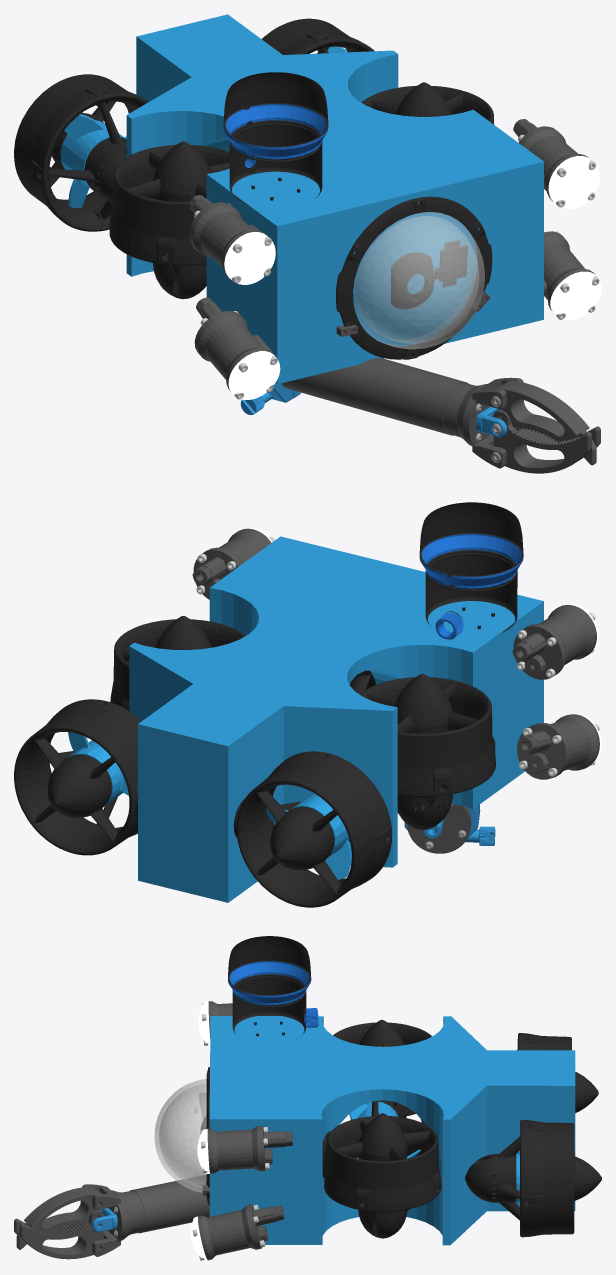
File: SIMPLEROV_5.glb
3 views of the same model, one above another, from view 1: azimuth 30°, elevation 25°; view 2: azimuth 150°, elevation 25°; view 3: azimuth 270°, elevation 25° (orthographic). The views are drawn at different scales.
Visible parts, largest first — view 1: Cube, NEWTON_GRIPPER, LUMEN-ASM-R3-PUBLIC.049, BROV2-HEAVY-ASM-BROV2-HEAVY-R1.065, motor3, motor6.standard, PING360.001, BROV2-HEAVY-ASM-BROV2-HEAVY-R1.066, motor6.standard.001, BROV2-HEAVY-ASM-BROV2-HEAVY-R1.001, motor4; view 2: Cube, motor3, motor4, motor6.standard, LUMEN-ASM-R3-PUBLIC.049, PING360.001, motor6.standard.001, NEWTON_GRIPPER; view 3: Cube, motor6.standard.001, motor4, NEWTON_GRIPPER, LUMEN-ASM-R3-PUBLIC.049, PING360.001, BROV2-HEAVY-ASM-BROV2-HEAVY-R1.065, motor6.standard, motor3, motor6.standard.002.
Boxes of the visible parts, left/top/right/bottom form: Cube: left=126, top=14, right=543, bottom=384; NEWTON_GRIPPER: left=240, top=358, right=600, bottom=473; LUMEN-ASM-R3-PUBLIC.049: left=189, top=119, right=601, bottom=399; BROV2-HEAVY-ASM-BROV2-HEAVY-R1.065: left=353, top=212, right=484, bottom=349; motor3: left=14, top=74, right=148, bottom=231; motor6.standard: left=109, top=141, right=229, bottom=299; PING360.001: left=223, top=72, right=328, bottom=203; BROV2-HEAVY-ASM-BROV2-HEAVY-R1.066: left=336, top=196, right=492, bottom=359; motor6.standard.001: left=361, top=82, right=494, bottom=124; BROV2-HEAVY-ASM-BROV2-HEAVY-R1.001: left=391, top=242, right=467, bottom=308; motor4: left=262, top=18, right=374, bottom=54; Cube: left=129, top=536, right=543, bottom=902; motor3: left=233, top=751, right=392, bottom=907; motor4: left=14, top=699, right=141, bottom=855; motor6.standard: left=360, top=673, right=495, bottom=829; LUMEN-ASM-R3-PUBLIC.049: left=192, top=527, right=601, bottom=779; PING360.001: left=419, top=502, right=523, bottom=639; motor6.standard.001: left=110, top=616, right=245, bottom=710; NEWTON_GRIPPER: left=404, top=804, right=495, bottom=853; Cube: left=209, top=1016, right=575, bottom=1245; motor6.standard.001: left=322, top=1113, right=441, bottom=1238; motor4: left=465, top=1119, right=601, bottom=1237; NEWTON_GRIPPER: left=14, top=1175, right=209, bottom=1259; LUMEN-ASM-R3-PUBLIC.049: left=191, top=1001, right=292, bottom=1260; PING360.001: left=228, top=936, right=318, bottom=1039; BROV2-HEAVY-ASM-BROV2-HEAVY-R1.065: left=154, top=1079, right=206, bottom=1192; motor6.standard: left=333, top=1019, right=431, bottom=1117; motor3: left=517, top=1033, right=598, bottom=1112; motor6.standard.002: left=349, top=1100, right=425, bottom=1124.
Bounding box in the file's own units: 0.2802 × 0.2309 × 0.4813.
